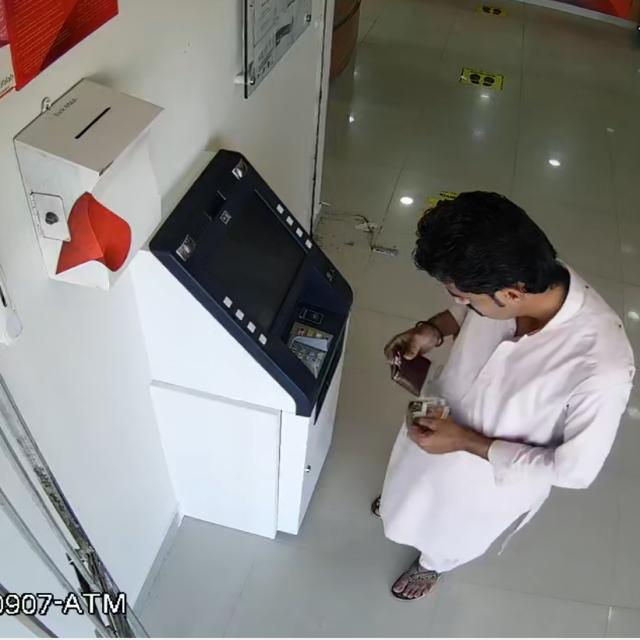note: (397, 392, 448, 425)
